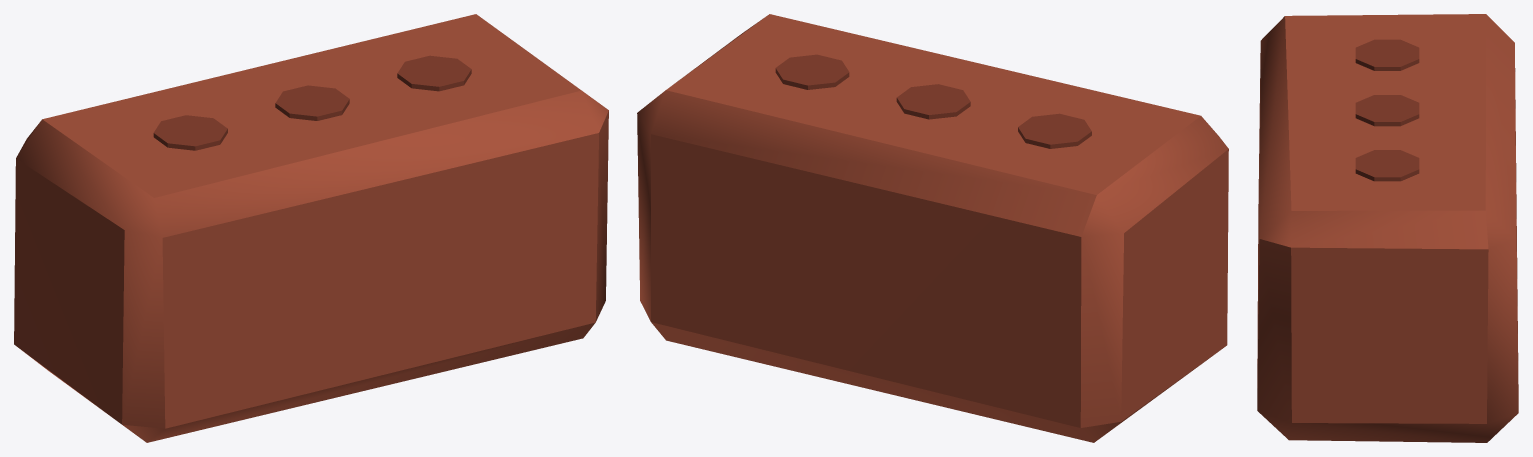
File: 103_brique_rouge.fbx
3 views of the same model, side by side, from view 1: azimuth 30°, elevation 25°; view 2: azimuth 150°, elevation 25°; view 3: azimuth 270°, elevation 25° (orthographic). The views are drawn at different scales.
Visible parts, largest first — view 1: Brique; view 2: Brique; view 3: Brique.
Boxes of the visible parts, x1,y1,x2,y2 form: Brique: (14, 14, 608, 442); Brique: (637, 14, 1228, 442); Brique: (1257, 14, 1518, 442).
Size of the model in its own units: 0.336 by 0.168 by 0.168.
1 material, 1 textured.
